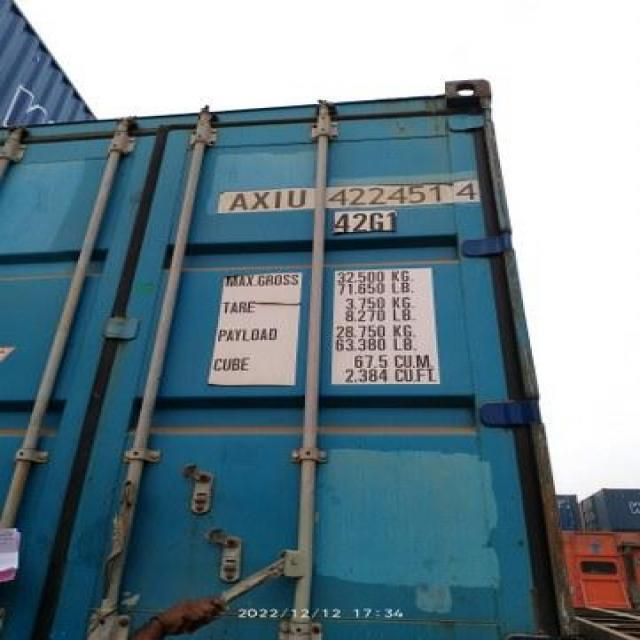ISO: (336, 212, 398, 234)
container_number: (224, 172, 492, 216)
